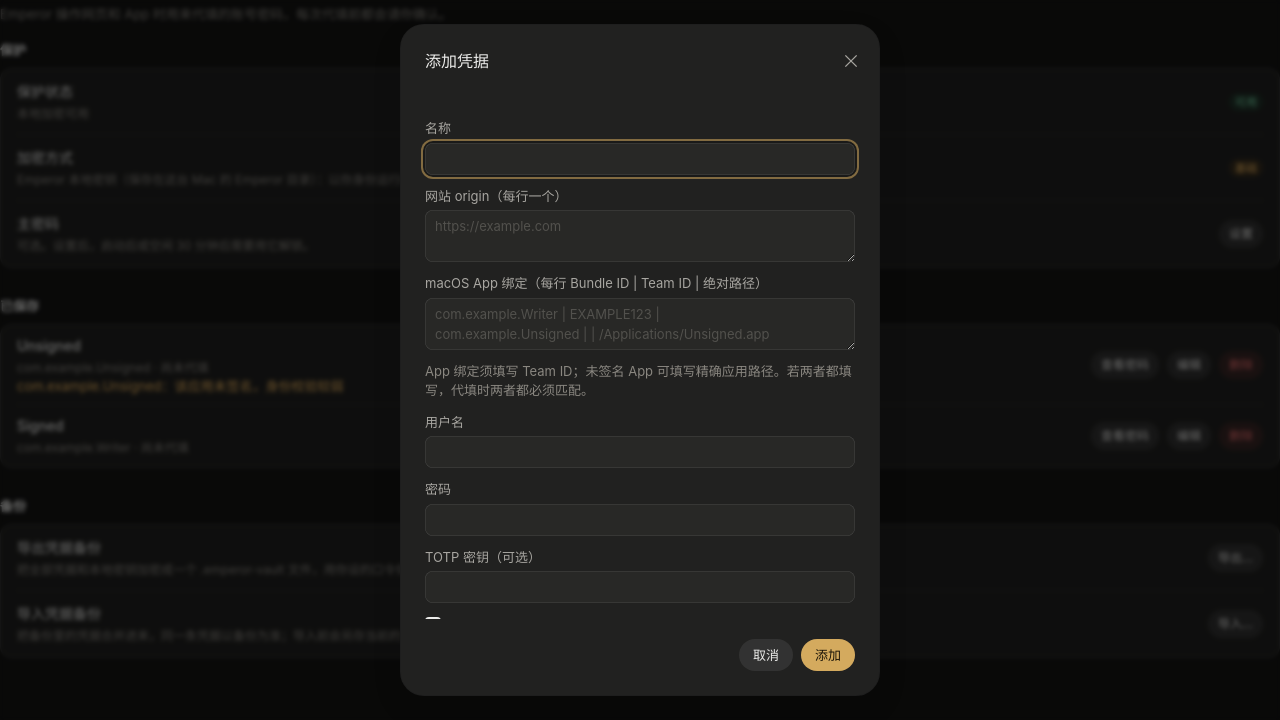
Test: credential vault settings › flags app bindings without a Team ID as weakly verified
The width and height of the screenshot is (1280, 720).
Replace the text in the text box labelled "macOS App 绑定（每行 Bundle ID | Team ID | 绝对路径）" with "com.example.Other | | /Applications/Other.app". click: x=640, y=324
box: [425,298,855,350]
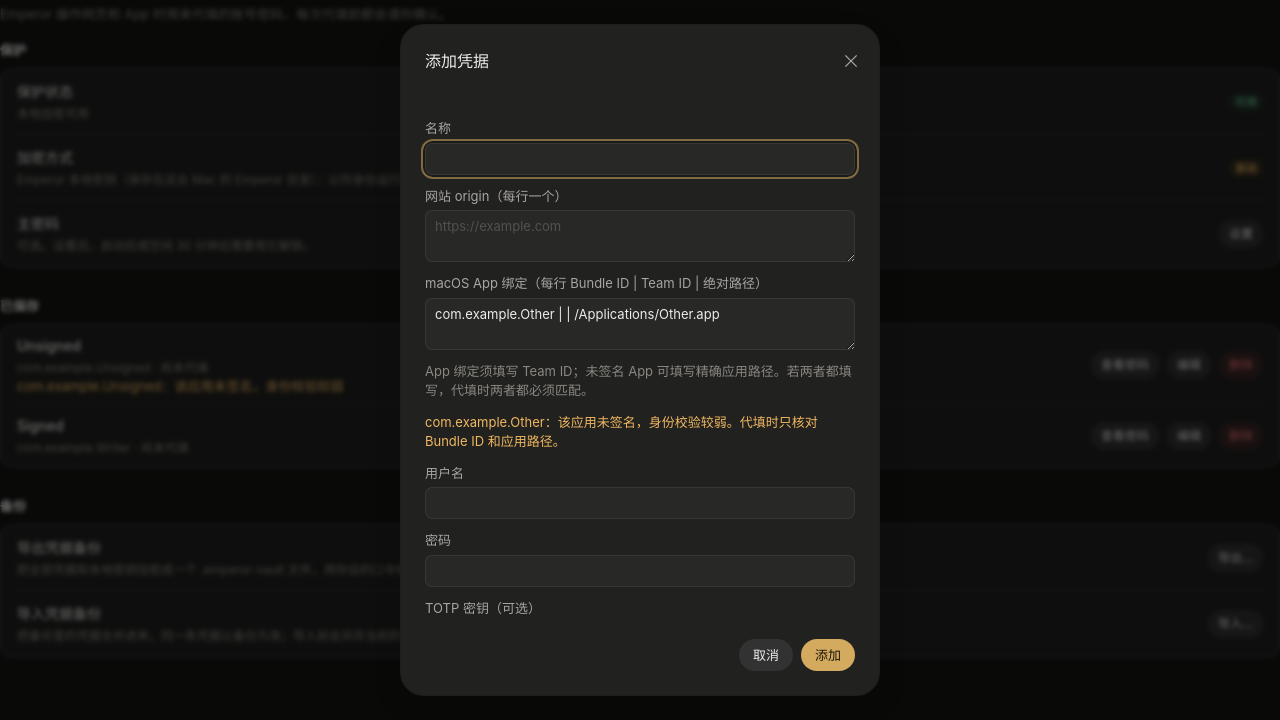
Now the text "com.example.Other：该应用未签名，身份校验较弱。代填时只核对 Bundle ID 和应用路径。" is shown, box [425,412,855,452]
